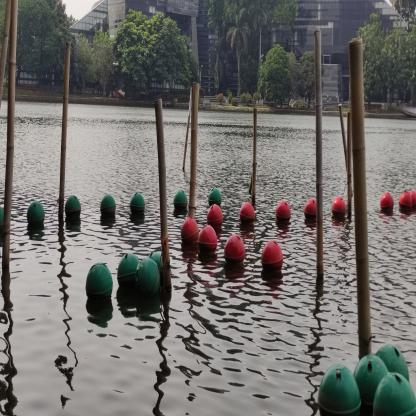green_buoy: (316, 361, 362, 415), (353, 349, 389, 409), (371, 371, 416, 416), (375, 340, 411, 387), (85, 261, 114, 305), (134, 257, 160, 300), (117, 252, 140, 291), (146, 251, 164, 285), (26, 199, 45, 231), (65, 194, 82, 223), (99, 194, 117, 220), (130, 193, 146, 217), (173, 189, 188, 214), (208, 186, 223, 208), (0, 206, 4, 233)
red_buoy: (260, 238, 284, 274), (224, 233, 246, 266), (197, 223, 218, 256), (180, 217, 199, 245), (238, 199, 256, 228), (274, 198, 292, 224), (206, 203, 223, 230), (302, 197, 318, 221), (332, 195, 346, 222), (379, 190, 395, 213), (398, 190, 413, 214), (408, 188, 416, 209)
